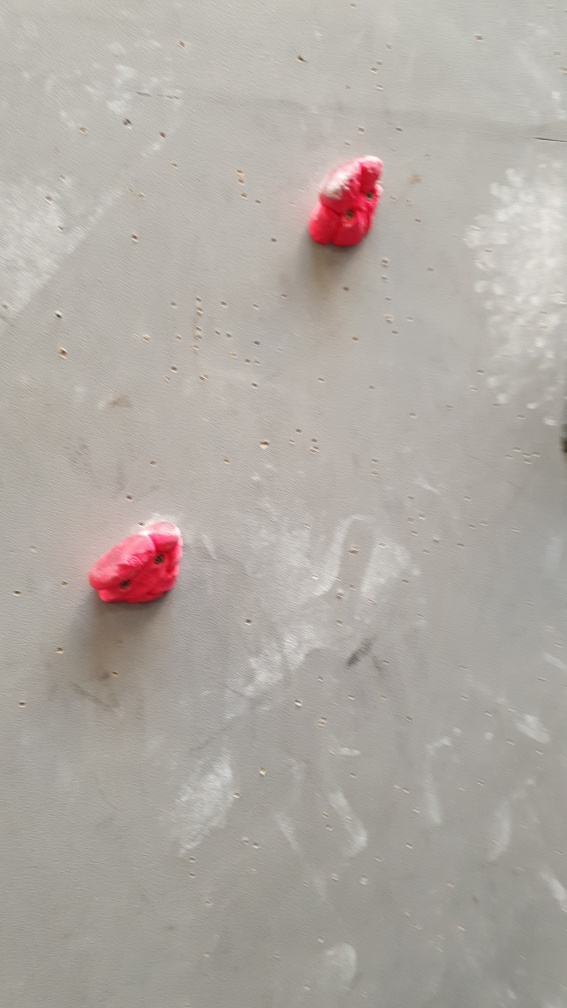Jug: (89, 512, 184, 607), (307, 153, 385, 252)
